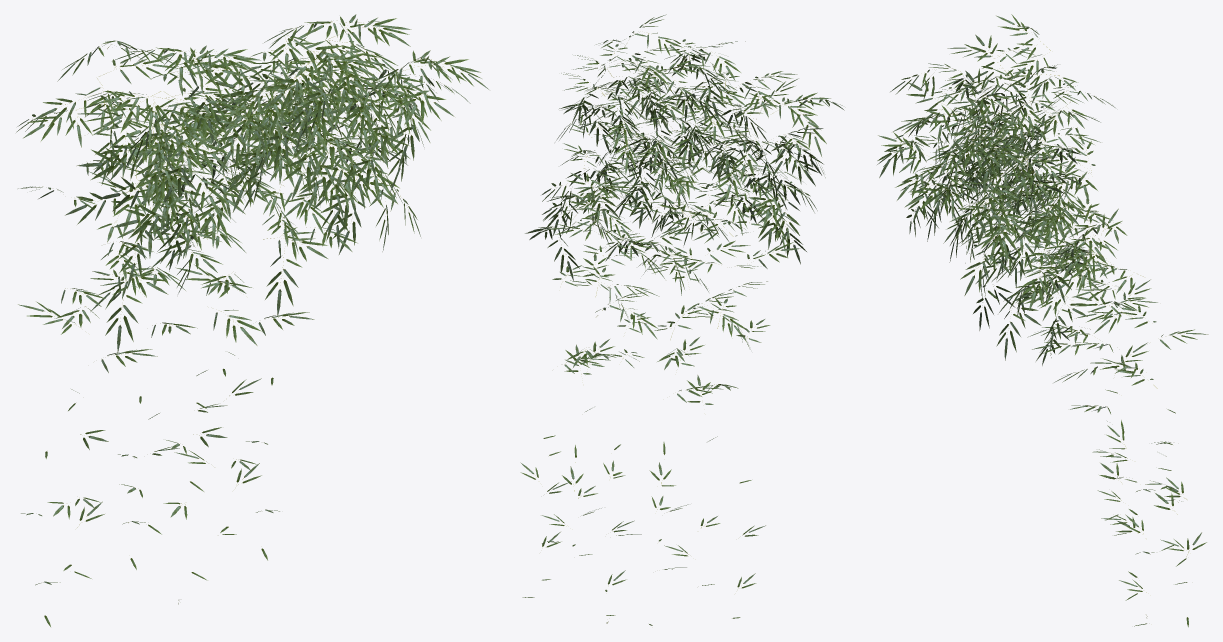
File: tre.glb
3 renders of one model, left to right at view 1: azimuth 30°, elevation 25°; view 2: azimuth 150°, elevation 25°; view 3: azimuth 270°, elevation 25°, orthographic. The views are drawn at different scales.
Parts seen in each view (by area): view 1: Object_2, Object_3; view 2: Object_2, Object_3; view 3: Object_2, Object_3.
Part boxes in pixels (bbox=[...]): Object_2: bbox=[16, 14, 470, 626]; Object_3: bbox=[42, 44, 488, 560]; Object_2: bbox=[520, 39, 844, 625]; Object_3: bbox=[542, 14, 810, 580]; Object_2: bbox=[877, 14, 1208, 627]; Object_3: bbox=[878, 27, 1186, 626].
Size of the model in its own units: 300 by 500 by 278.
Materials: 2 (2 with a texture image).
